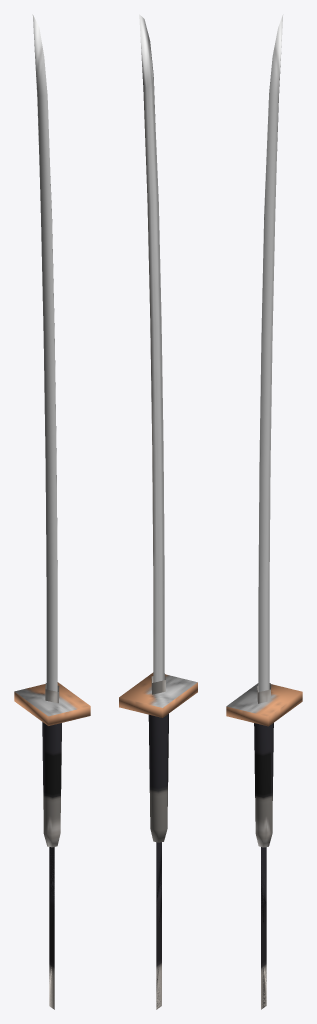
File: hollowbankaizangetsu.obj
3 views of the same model, side by side, from view 1: azimuth 30°, elevation 25°; view 2: azimuth 150°, elevation 25°; view 3: azimuth 330°, elevation 25° (orthographic). The views are drawn at different scales.
Visible parts, largest first — view 1: bankaizangetsu; view 2: bankaizangetsu; view 3: bankaizangetsu.
Boxes of the visible parts, bbox=[...] form: bankaizangetsu: bbox=[14, 14, 90, 1009]; bankaizangetsu: bbox=[119, 14, 197, 1009]; bankaizangetsu: bbox=[226, 14, 302, 1009].
Bounding box in the file's own units: 0.0831 × 1.84 × 0.1234.
